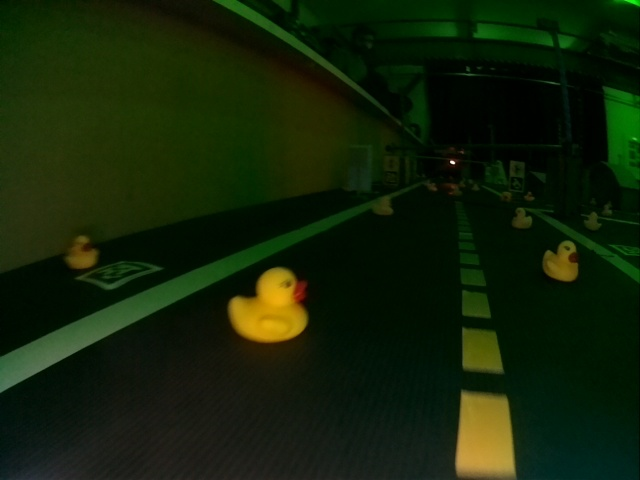Duckie: (232, 271, 306, 340), (542, 242, 579, 282), (69, 234, 99, 269), (512, 208, 532, 229), (372, 195, 390, 213), (583, 212, 601, 230), (452, 188, 462, 196), (526, 193, 534, 202), (429, 185, 437, 192)
QR code: (85, 261, 162, 290), (610, 242, 637, 257), (387, 175, 397, 184)
Signal sign: (386, 158, 396, 166)
